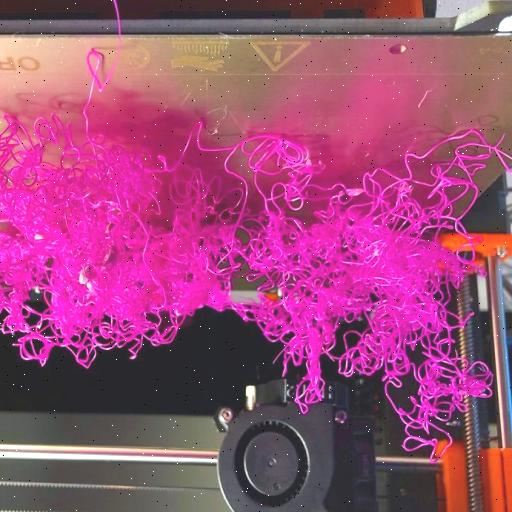spaghetti: (0, 80, 494, 466)
